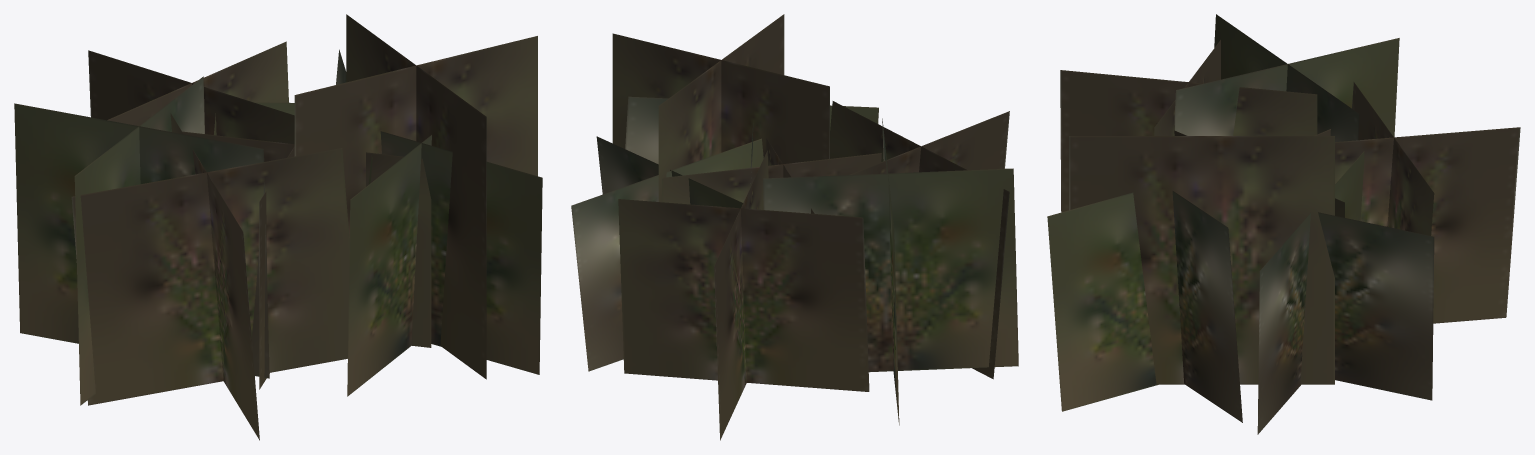
The model's file is GrassPatch01c.obj.
3 views of the same model, side by side, from view 1: azimuth 30°, elevation 25°; view 2: azimuth 150°, elevation 25°; view 3: azimuth 270°, elevation 25° (orthographic). The views are drawn at different scales.
Visible parts, largest first — view 1: GrassPatch01a; view 2: GrassPatch01a; view 3: GrassPatch01a.
Boxes of the visible parts, x1,y1,x2,y2 form: GrassPatch01a: (14,14,542,440); GrassPatch01a: (571,14,1018,440); GrassPatch01a: (1047,14,1520,434).
Bounding box in the file's own units: 1.87 × 1.07 × 1.78.
